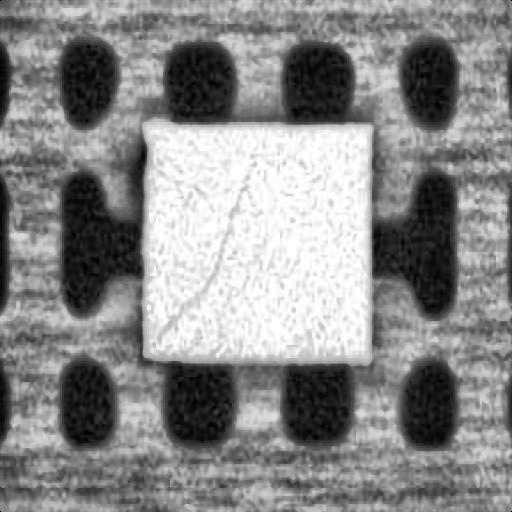DIE_CRACK: (156, 175, 239, 332)
